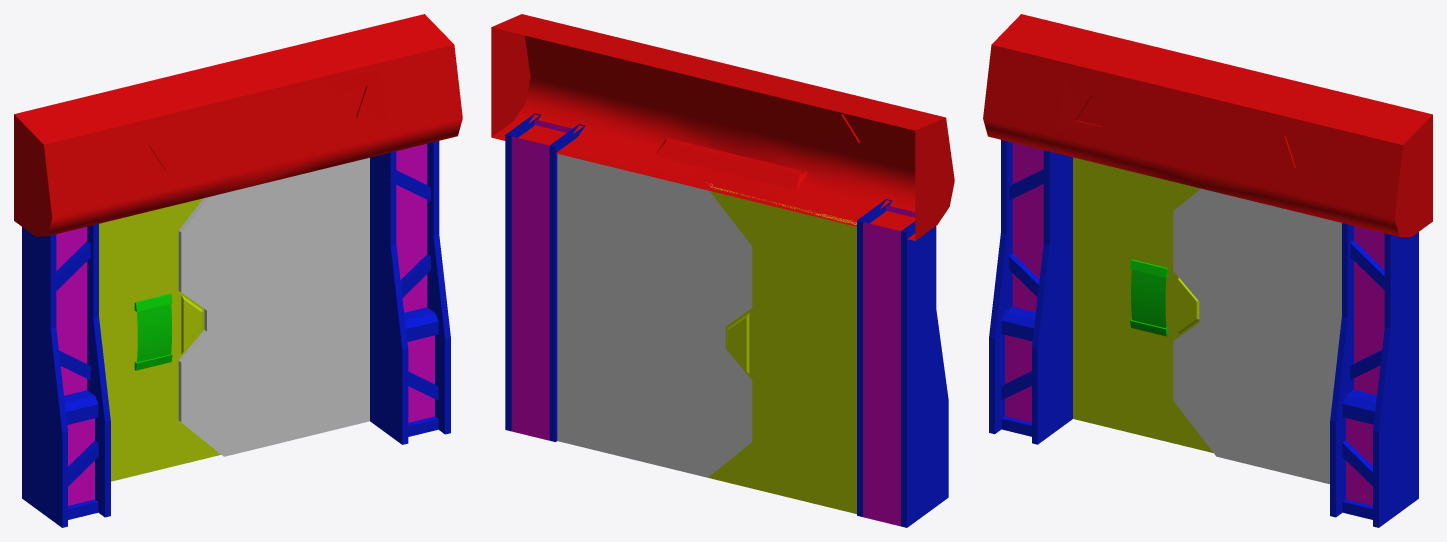
Rendered from SM_Elevador 1.fbx.
The picture shows the model from 3 angles, left to right: view 1: azimuth 30°, elevation 25°; view 2: azimuth 150°, elevation 25°; view 3: azimuth 330°, elevation 25°; orthographic projection. The views are drawn at different scales.
Parts seen in each view (by area): view 1: BaseElevador, DoorElevador2, DoorElevador; view 2: BaseElevador, DoorElevador2, DoorElevador; view 3: BaseElevador, DoorElevador2, DoorElevador.
Boxes of the visible parts, <box> form: BaseElevador: <box>14,14,462,527</box>; DoorElevador2: <box>178,157,369,456</box>; DoorElevador: <box>99,198,220,481</box>; BaseElevador: <box>491,14,954,527</box>; DoorElevador2: <box>557,154,752,477</box>; DoorElevador: <box>708,186,856,513</box>; BaseElevador: <box>983,14,1432,527</box>; DoorElevador2: <box>1173,188,1341,484</box>; DoorElevador: <box>1073,157,1213,452</box>.
Size of the model in its own units: 4.22 by 3.8 by 0.7149.
